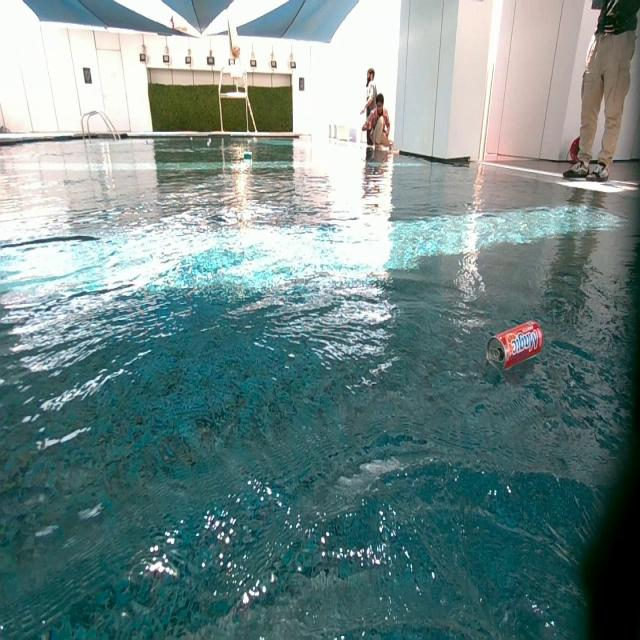Cans: (488, 322, 546, 374), (244, 151, 254, 159), (207, 139, 213, 147), (145, 140, 151, 144), (190, 138, 194, 142)
